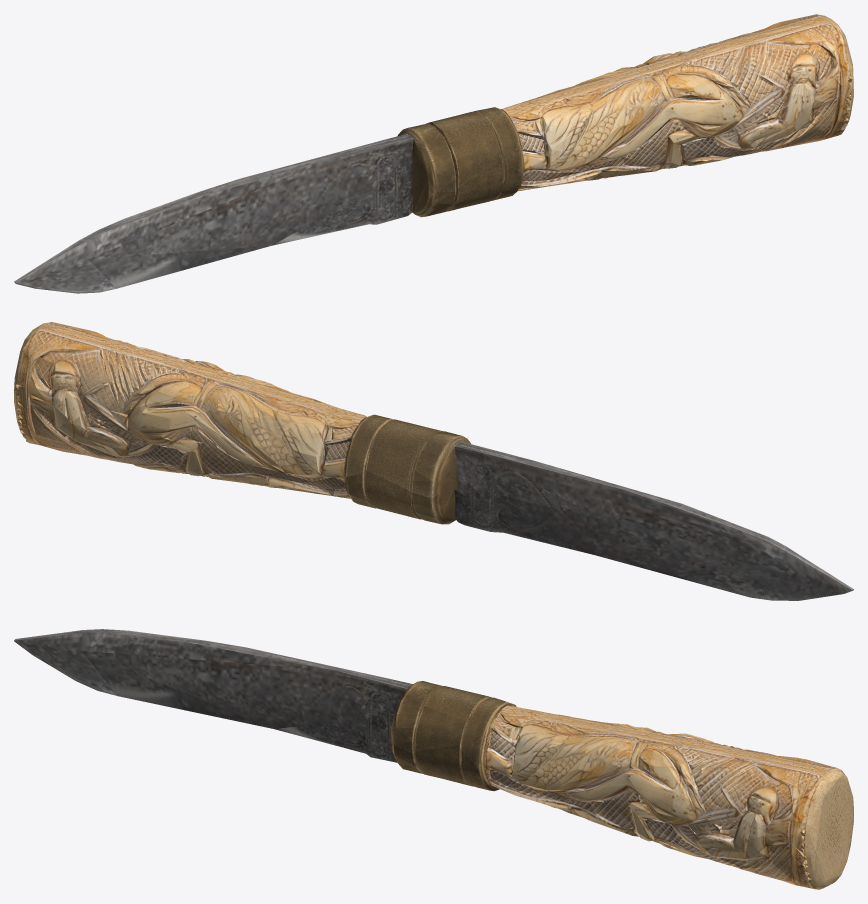
Rendered from remeshed-meedmor.glb.
The picture shows the model from 3 angles, top to bottom: view 1: azimuth 30°, elevation 25°; view 2: azimuth 150°, elevation 25°; view 3: azimuth 330°, elevation 25°; orthographic projection.
Parts seen in each view (by area): view 1: output_unwrapped; view 2: output_unwrapped; view 3: output_unwrapped.
Part boxes in pixels (x1=…): output_unwrapped: x1=14, y1=14, x2=853, y2=293; output_unwrapped: x1=14, y1=322, x2=853, y2=600; output_unwrapped: x1=14, y1=629, x2=853, y2=889.
Size of the model in its own units: 1.9 by 0.254 by 0.2153.
Materials: 1 (1 with a texture image).
